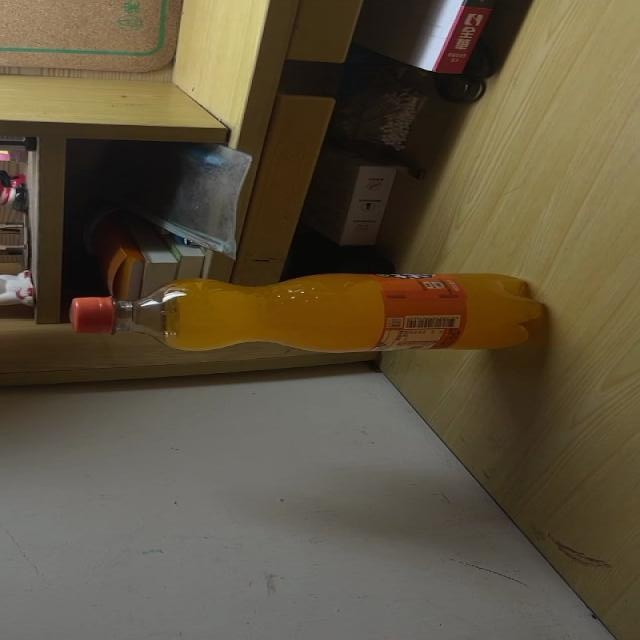Fanta: (70, 271, 549, 354)
